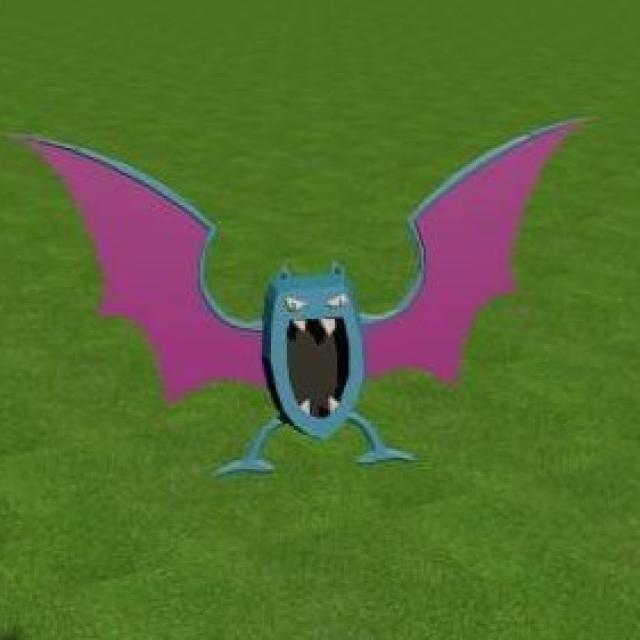Golbat: (156, 218, 463, 482)
